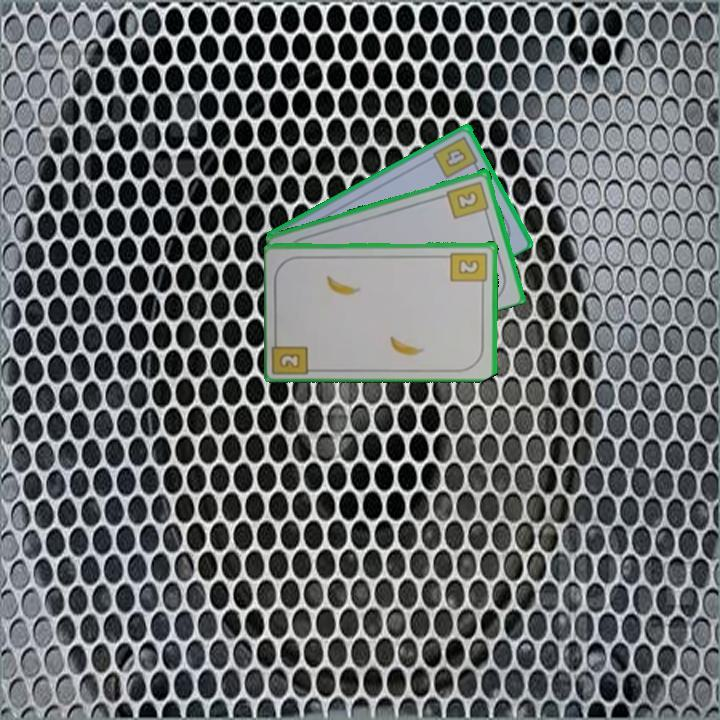2b: (444, 177, 492, 221), (448, 249, 490, 290), (276, 349, 303, 371)
4b: (430, 132, 482, 181)
